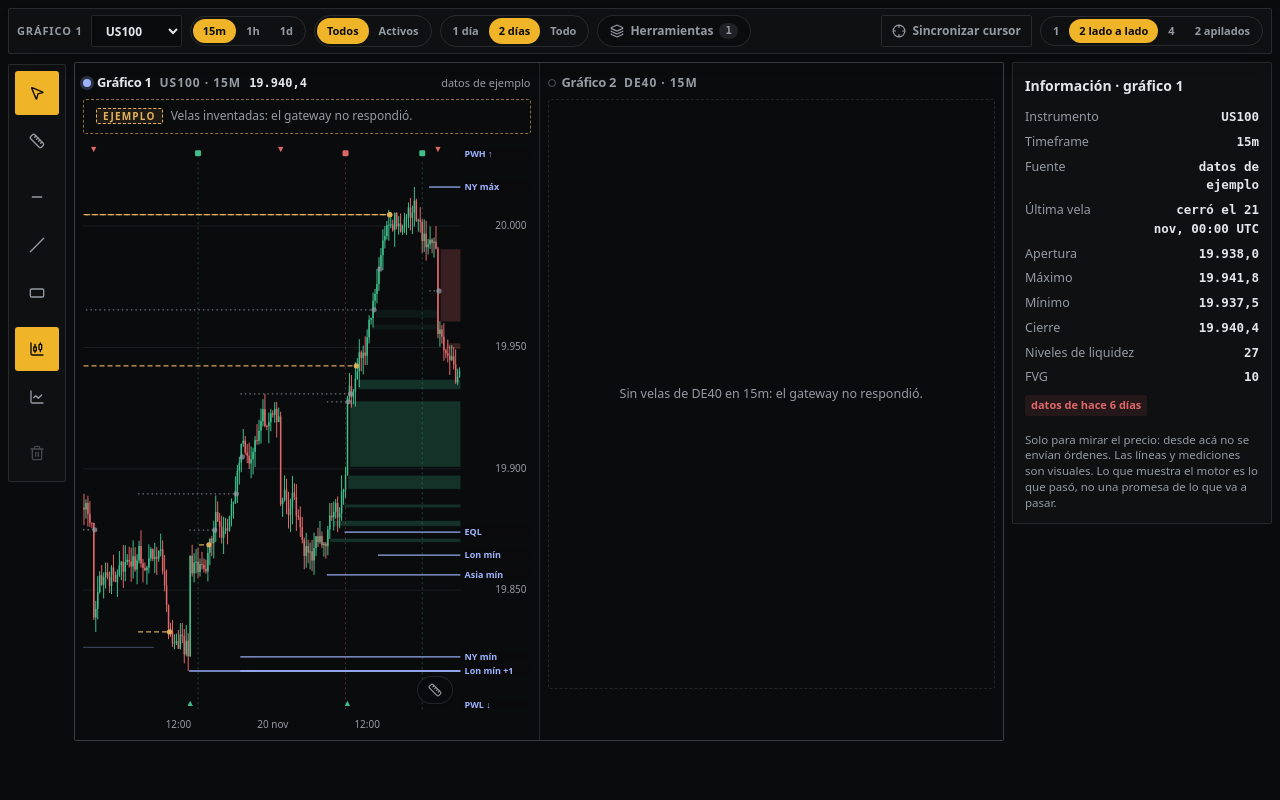
it: multigráfico (#540) › el panel activo se resalta y la barra de dibujo actúa solo sobre él
Expected: the element named "19.85019.90019.95020.000Máximo de la semana anterior (PWH):" is shown, [83,99,530,732]
Note: US100 15 m tiene datos de ejemplo: medir y línea se aplican al gráfico 1
Click the button named "Medir". click: point(37, 141)
box: [15,119,59,163]
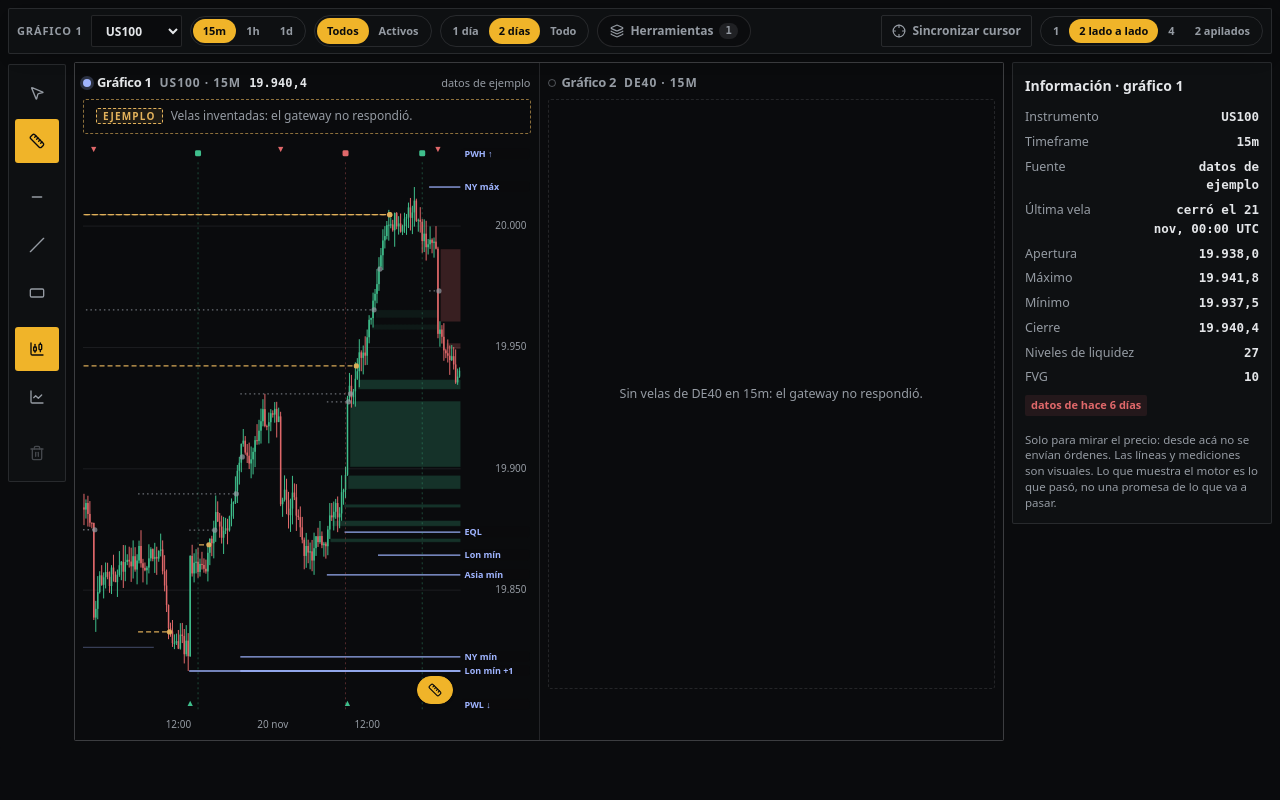
Click the button named "Línea". click: point(37, 397)
box: [15,375,59,419]
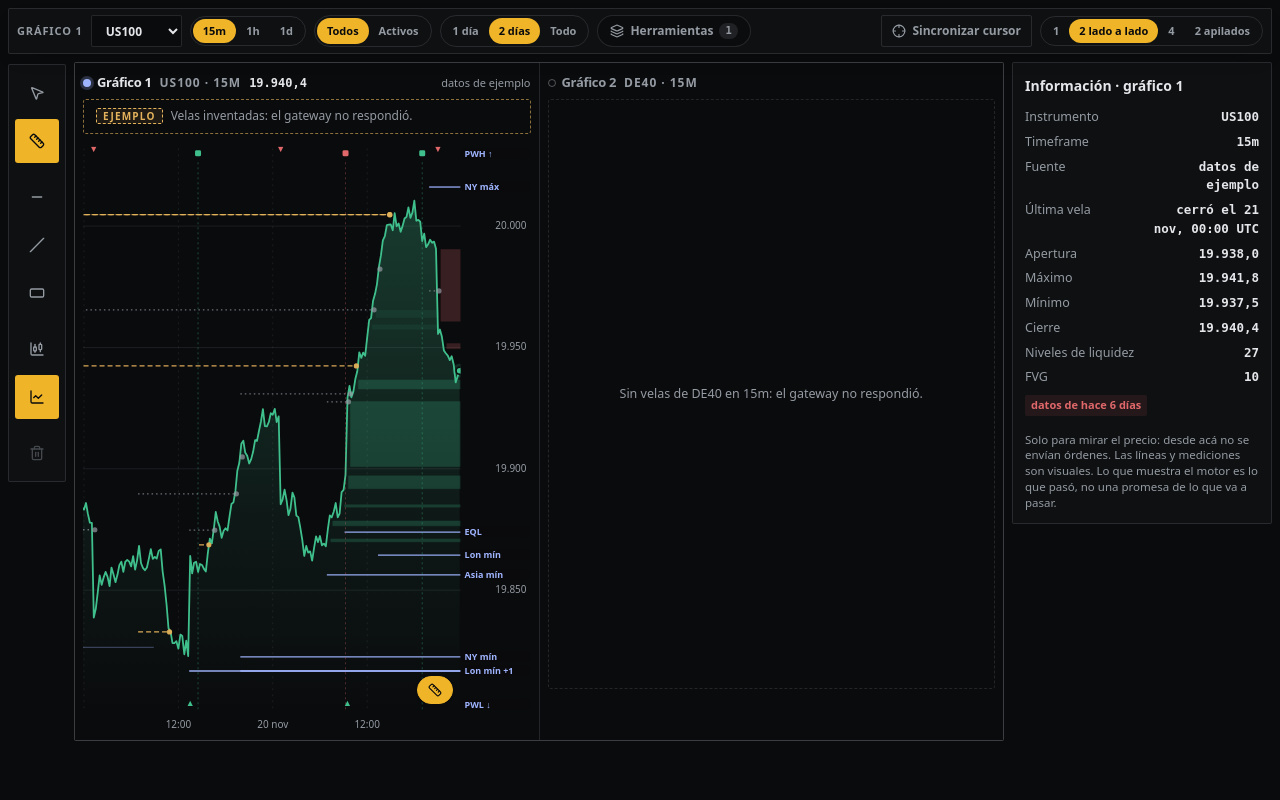
Expected: the button named "Regla: medir arrastrando" is pressed, [416,676,452,704]
Note: otro panel activo: la barra muestra sus herramientas (las de siempre)
Click the button "Gráfico 2". click: point(582, 83)
box: [548,71,616,95]
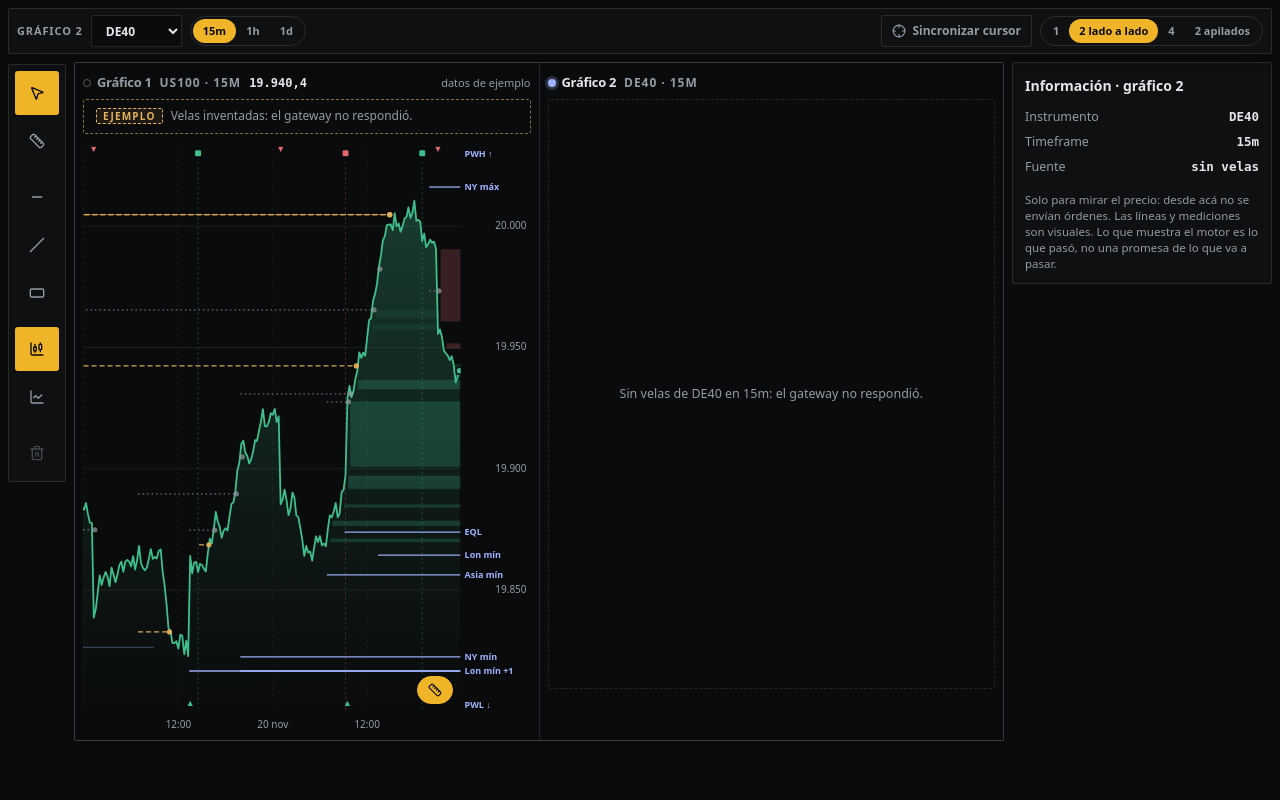
Expected: the element named "Información del gráfico 2" is shown, [1012,62,1272,284]
